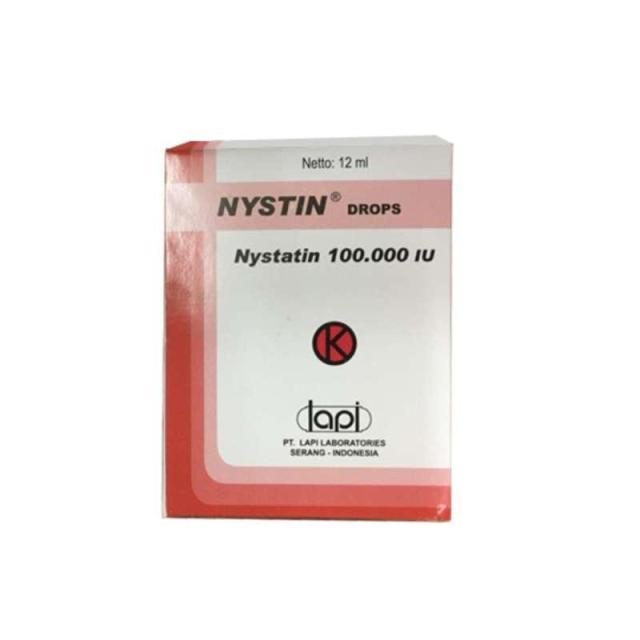drug-name: (216, 185, 340, 218)
